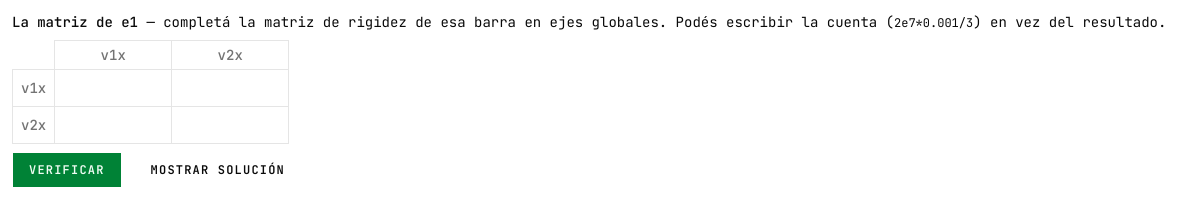
Test case: ValuesQuiz › acepta el redondeo y también la cuenta sin resolver
Type "6666.67" into the field named "v1x con v1x" at (113, 88), box [57,72,169,104]
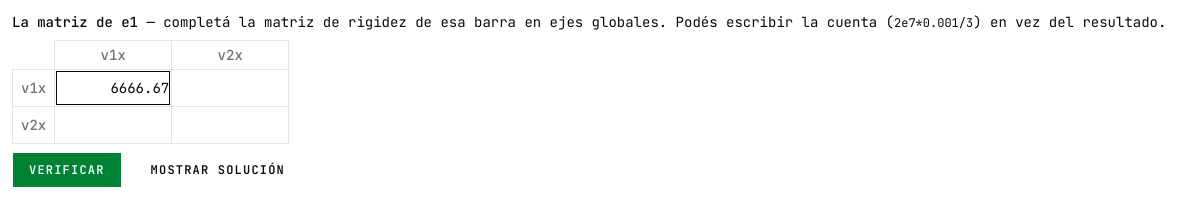
Type "2e7*0.001/3" into the field named "v2x con v2x" at (230, 125), box [174,109,286,141]
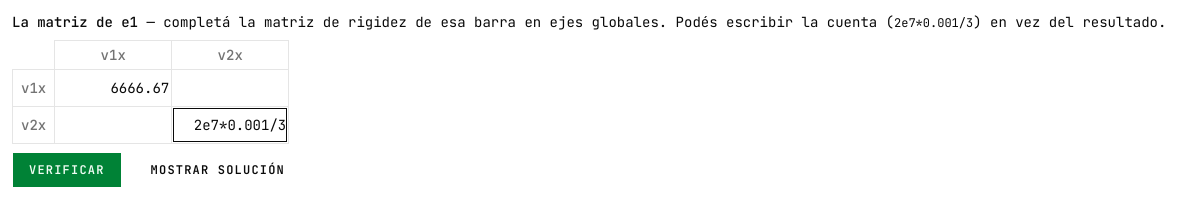
Click the button "Verificar" at (67, 170), box [12,152,122,188]
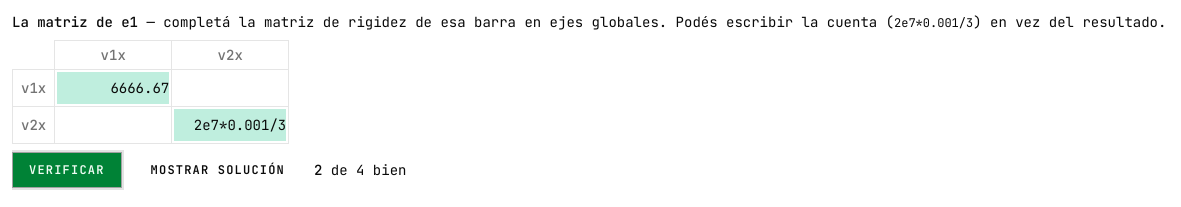
Result: the text "2 de 4 bien" is shown at [314,160,406,180]
